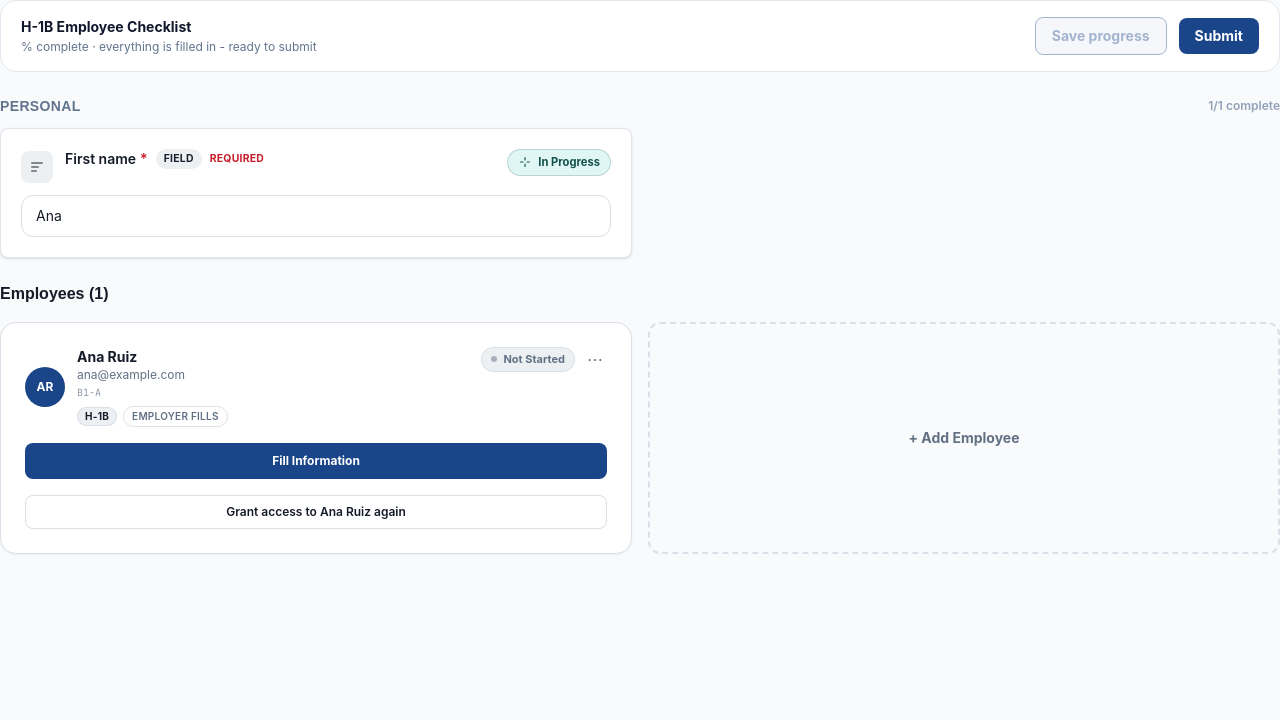
granting access again from the employee's own form › a failed save stops the grant: the information is never handed over
Step 1. Click the button "Fill Information" → (316, 461), box [25,443,607,479]
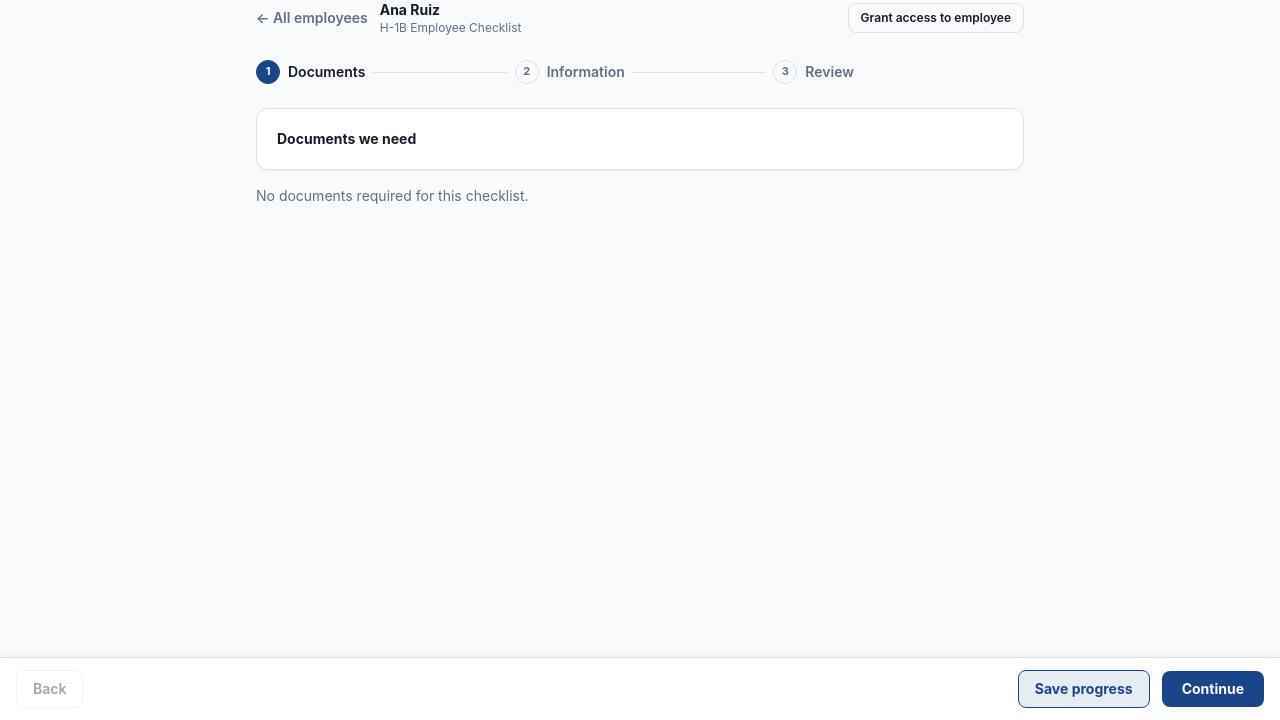
Step 2. Click the button "Grant access to employee" → (936, 18), box [848,3,1024,33]
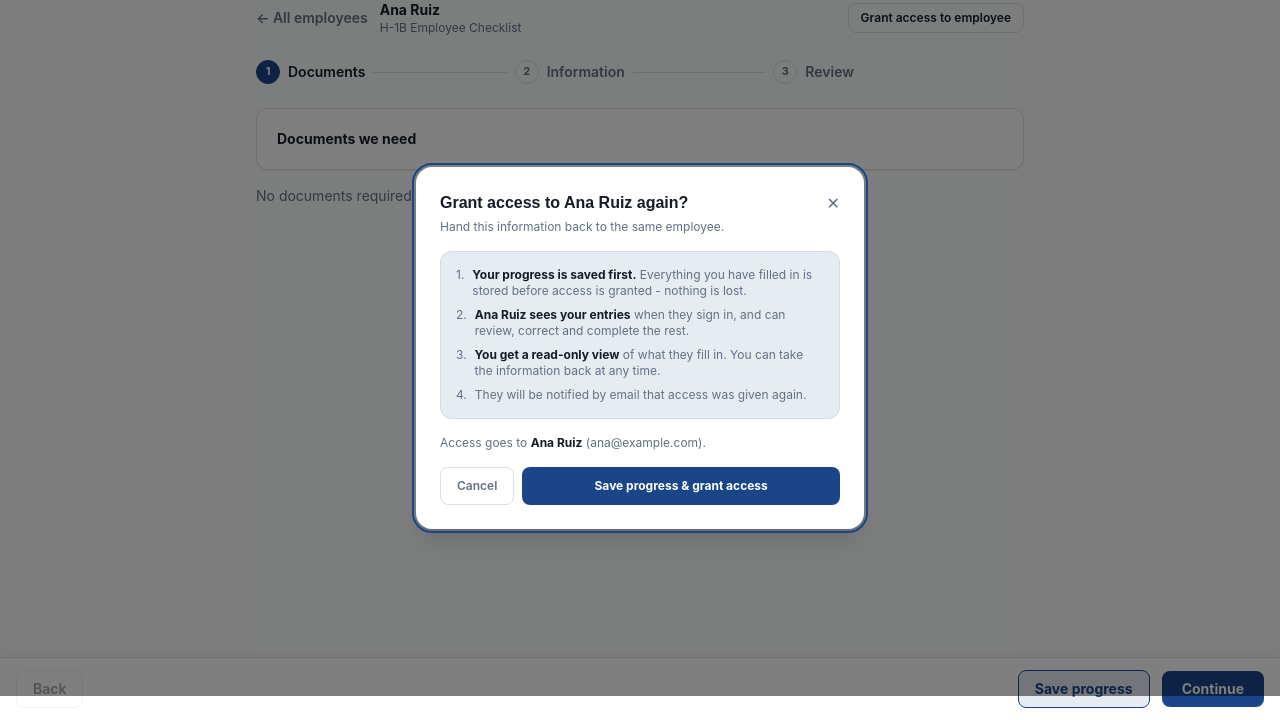
Step 3. Click the button "Save progress & grant access" → (681, 486), box [522,467,840,505]
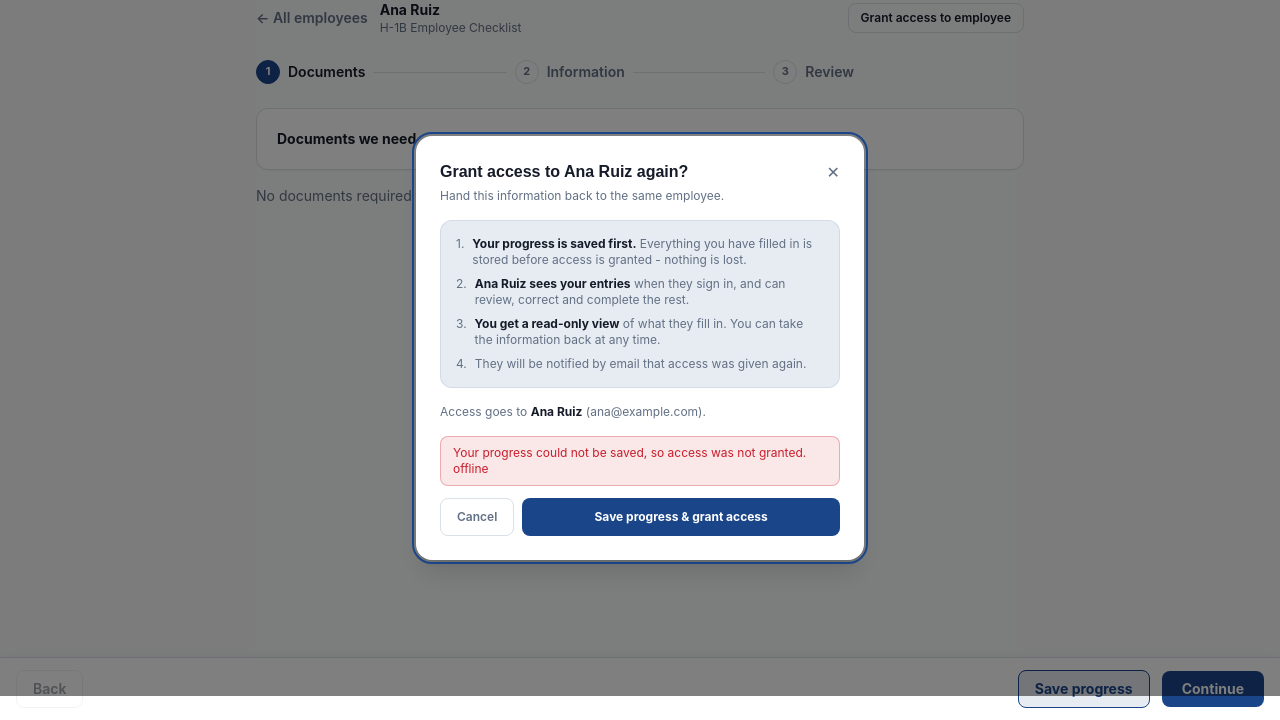
expect the message shows "could not be saved": met, box [453,445,806,476]
